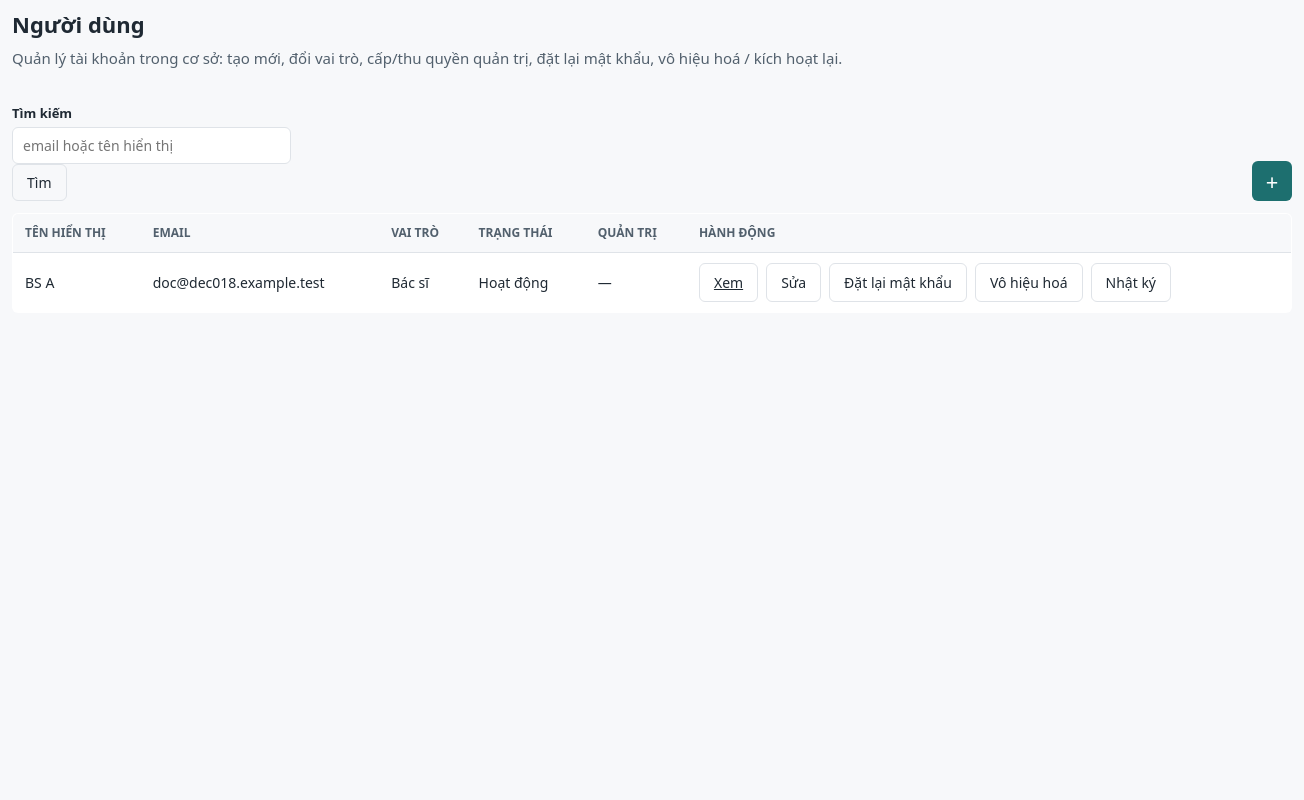
UsersPage (DEC-018 T5) › reset password (T8-F1) › ERROR — shows a clear error message and no modal
The width and height of the screenshot is (1304, 800).
Check: the text "doc@dec018.example.test" is shown, box [141,252,379,312]
Click the button "Đặt lại mật khẩu".
click(898, 282)  # box [829,263,967,302]
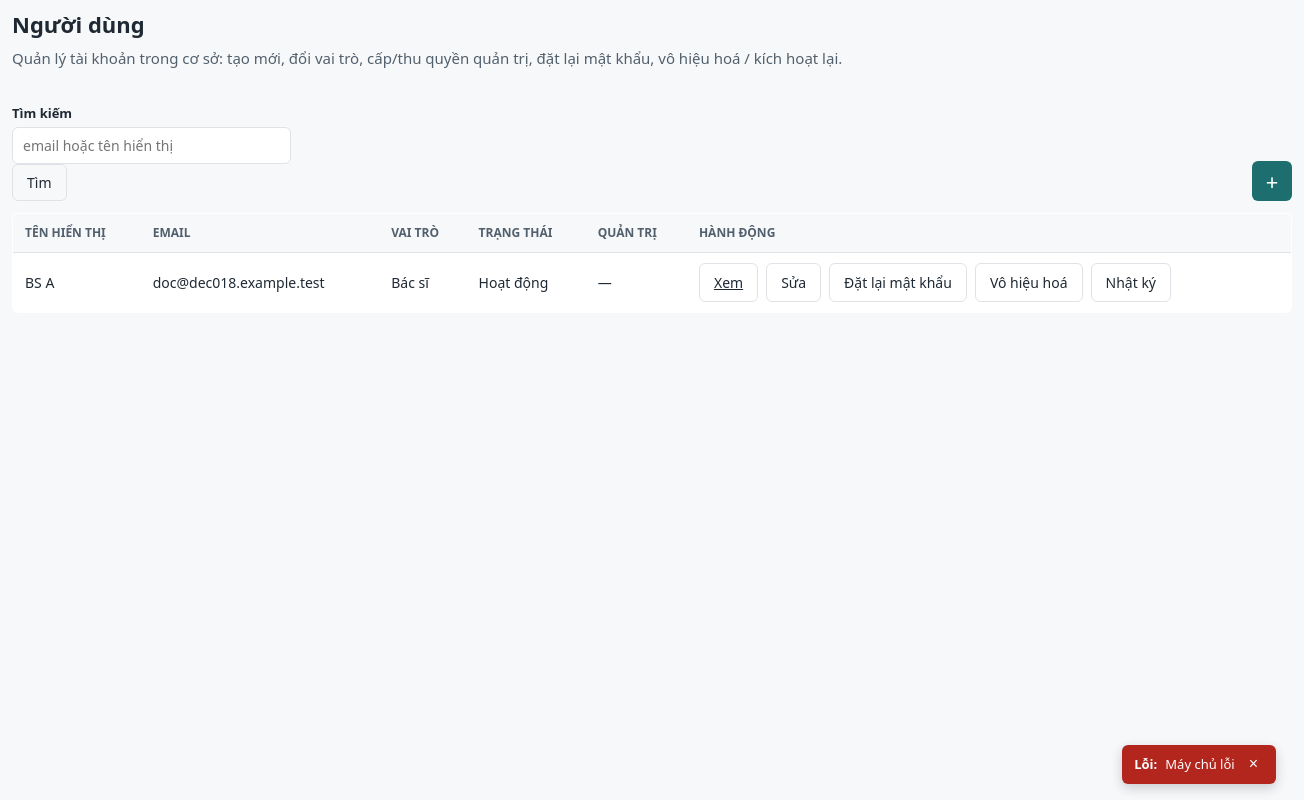
Check: the text "Máy chủ lỗi" is shown, box [1165,754,1235,774]
